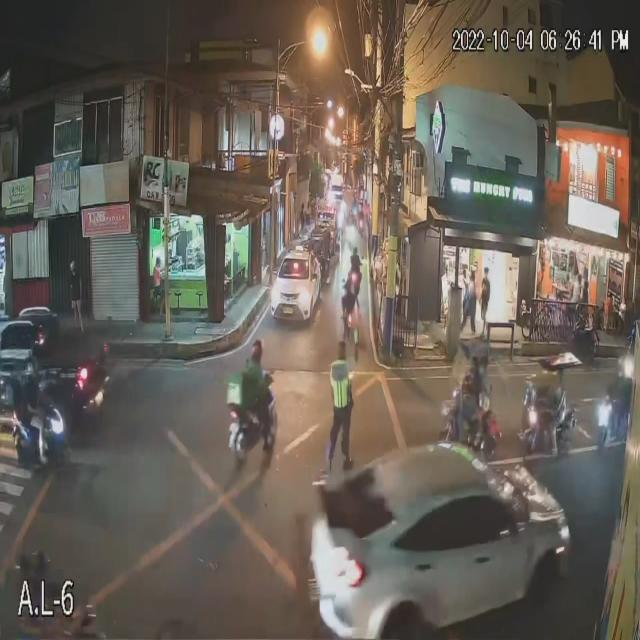Full-Faced: (22, 355, 40, 384), (249, 334, 264, 364), (348, 270, 358, 290), (352, 242, 360, 258)
